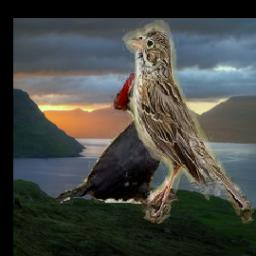Sparrow: (123, 20, 255, 224)
Woodpecker: (51, 59, 164, 205)
